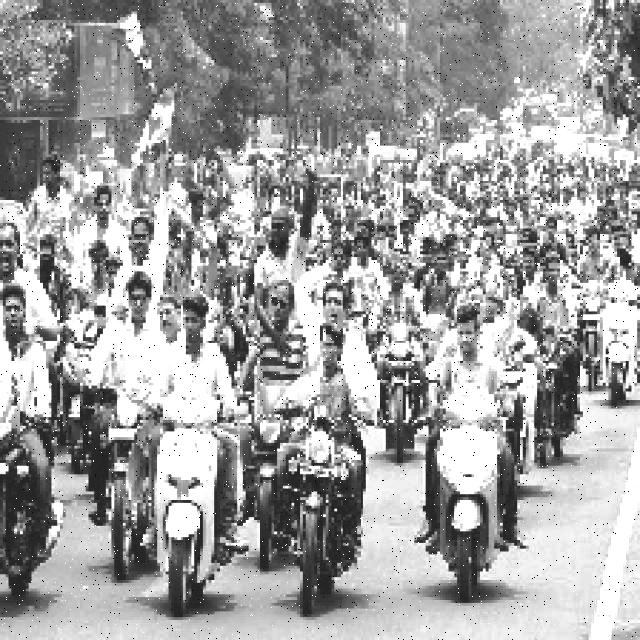Bike: (150, 380, 240, 611), (292, 401, 384, 600), (429, 365, 509, 582), (251, 390, 305, 560), (384, 309, 424, 444), (597, 266, 628, 408)
